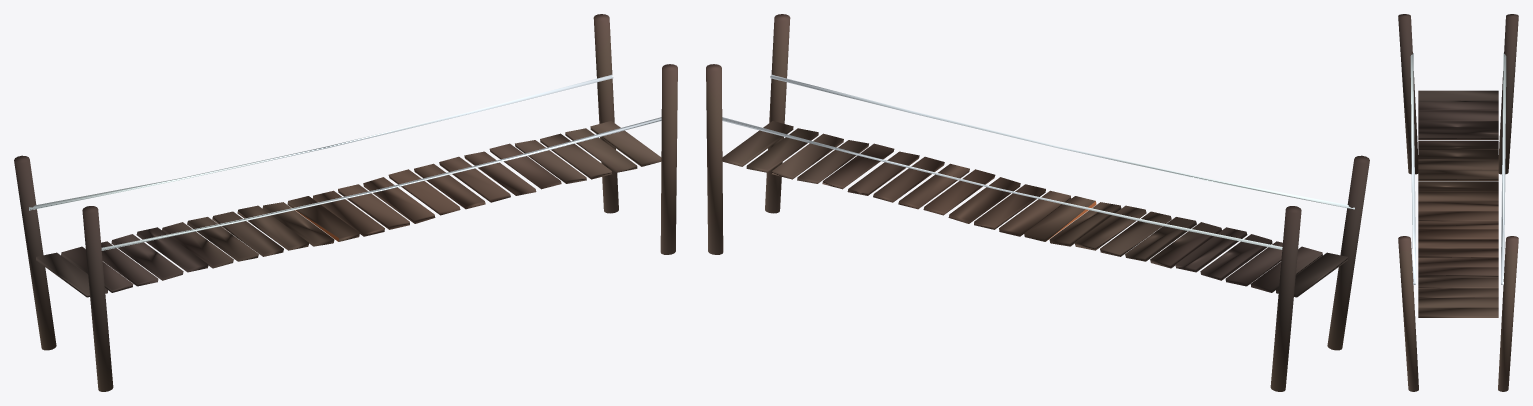
The model's file is WoodenShortRopeStraightBridge.glb.
3 views of the same model, side by side, from view 1: azimuth 30°, elevation 25°; view 2: azimuth 150°, elevation 25°; view 3: azimuth 270°, elevation 25° (orthographic). The views are drawn at different scales.
Visible parts, largest first — view 1: WoodenShortRopeStraightBridge; view 2: WoodenShortRopeStraightBridge; view 3: WoodenShortRopeStraightBridge.
Boxes of the visible parts, x1=… form: WoodenShortRopeStraightBridge: x1=14, y1=14, x2=677, y2=391; WoodenShortRopeStraightBridge: x1=706, y1=14, x2=1369, y2=391; WoodenShortRopeStraightBridge: x1=1398, y1=14, x2=1518, y2=391.
Bounding box in the file's own units: 9.02 × 2.74 × 2.
1 material, 1 textured.
